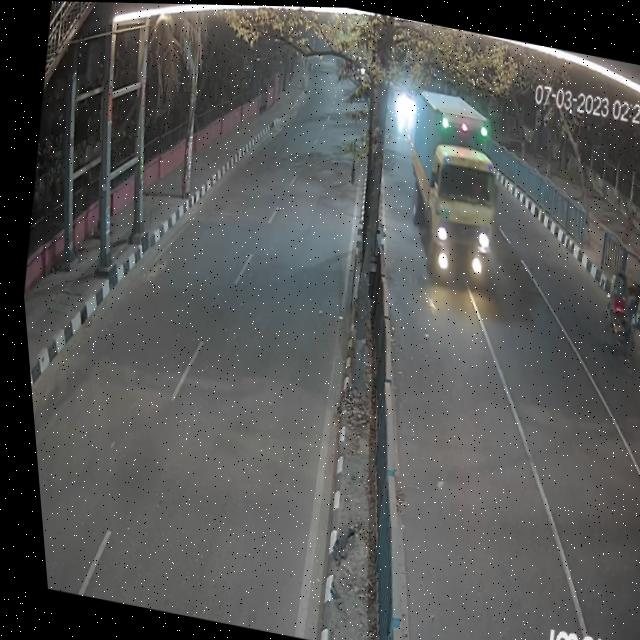rikshaw: (582, 258, 640, 378)
